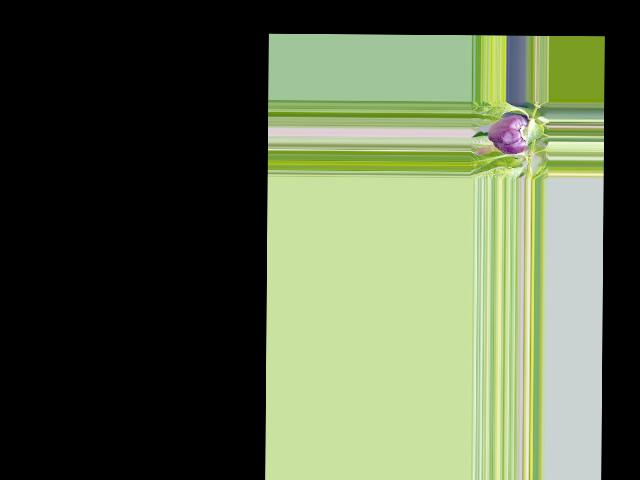bell_pepper: (486, 115, 532, 155)
